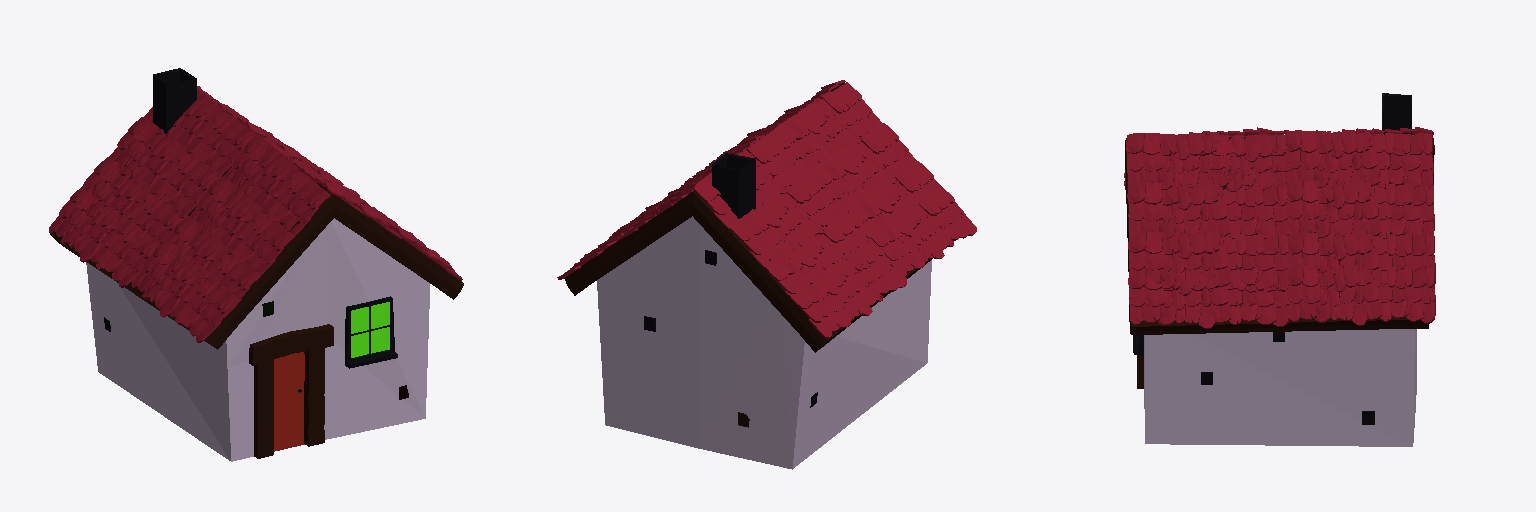
Rendered from house2.obj.
The picture shows the model from 3 angles: view 1: azimuth 30°, elevation 25°; view 2: azimuth 150°, elevation 25°; view 3: azimuth 270°, elevation 25°; orthographic projection.
Parts seen in each view (by area): view 1: Maison_Cube.005, Tuiles.002_Plane.003, Tuiles.007_Plane.008, Tuiles.001_Plane.002, Tuiles.003_Plane.004, Tuiles.006_Plane.007, Tuiles.004_Plane.005, Tuiles_Plane.048, Tuiles.005_Plane.006, Fenetre_Cube.016, Cheminée_Cube.018, Poutre2_Cube.003 (+4 smaller); view 2: Maison_Cube.005, Tuiles.002_Plane.003, Tuiles.006_Plane.007, Tuiles.007_Plane.008, Tuiles.001_Plane.002, Tuiles.003_Plane.004, Tuiles.004_Plane.005, Tuiles_Plane.048, Tuiles.005_Plane.006, Cheminée_Cube.018; view 3: Maison_Cube.005, Tuiles.010_Plane.011, Tuiles.012_Plane.013, Tuiles.009_Plane.010, Tuiles.015_Plane.016, Tuiles.011_Plane.012, Tuiles.014_Plane.015, Tuiles.008_Plane.009, Tuiles.013_Plane.014, Tuiles.016_Plane.017, Cheminée_Cube.018.
Boxes of the visible parts, x1=… form: Maison_Cube.005: x1=49, y1=145, x2=463, y2=461; Tuiles.002_Plane.003: x1=109, y1=117, x2=221, y2=217; Tuiles.007_Plane.008: x1=132, y1=240, x2=239, y2=342; Tuiles.001_Plane.002: x1=223, y1=135, x2=330, y2=235; Tuiles.003_Plane.004: x1=190, y1=176, x2=294, y2=274; Tuiles.006_Plane.007: x1=49, y1=186, x2=158, y2=287; Tuiles.004_Plane.005: x1=83, y1=157, x2=187, y2=258; Tuiles_Plane.048: x1=144, y1=89, x2=256, y2=176; Tuiles.005_Plane.006: x1=164, y1=216, x2=260, y2=317; Fenetre_Cube.016: x1=345, y1=296, x2=397, y2=368; Cheminée_Cube.018: x1=153, y1=68, x2=196, y2=133; Poutre2_Cube.003: x1=304, y1=348, x2=324, y2=446; Maison_Cube.005: x1=564, y1=82, x2=947, y2=469; Tuiles.002_Plane.003: x1=730, y1=172, x2=847, y2=268; Tuiles.006_Plane.007: x1=789, y1=241, x2=906, y2=338; Tuiles.007_Plane.008: x1=869, y1=185, x2=976, y2=276; Tuiles.001_Plane.002: x1=774, y1=82, x2=881, y2=169; Tuiles.003_Plane.004: x1=811, y1=123, x2=917, y2=207; Tuiles.004_Plane.005: x1=765, y1=213, x2=881, y2=298; Tuiles_Plane.048: x1=693, y1=130, x2=811, y2=229; Tuiles.005_Plane.006: x1=846, y1=161, x2=939, y2=242; Cheminée_Cube.018: x1=712, y1=153, x2=755, y2=218; Maison_Cube.005: x1=1125, y1=134, x2=1434, y2=446; Tuiles.010_Plane.011: x1=1127, y1=182, x2=1287, y2=238; Tuiles.012_Plane.013: x1=1128, y1=232, x2=1288, y2=291; Tuiles.009_Plane.010: x1=1285, y1=130, x2=1433, y2=188; Tuiles.015_Plane.016: x1=1288, y1=264, x2=1435, y2=325; Tuiles.011_Plane.012: x1=1286, y1=180, x2=1434, y2=238; Tuiles.014_Plane.015: x1=1128, y1=268, x2=1288, y2=328; Tuiles.008_Plane.009: x1=1126, y1=133, x2=1286, y2=189; Tuiles.013_Plane.014: x1=1288, y1=233, x2=1435, y2=292; Tuiles.016_Plane.017: x1=1199, y1=135, x2=1337, y2=191; Cheminée_Cube.018: x1=1382, y1=93, x2=1411, y2=134.
Bounding box in the file's own units: 1.95 × 1.93 × 1.89.